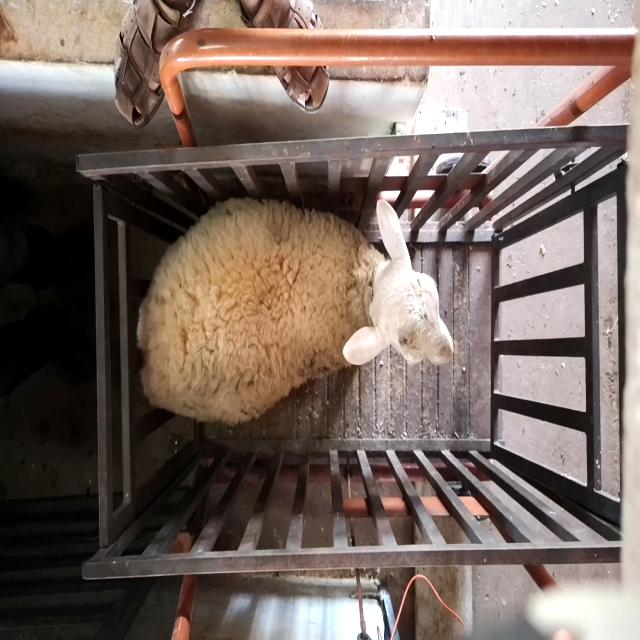sheep: (136, 197, 456, 426)
